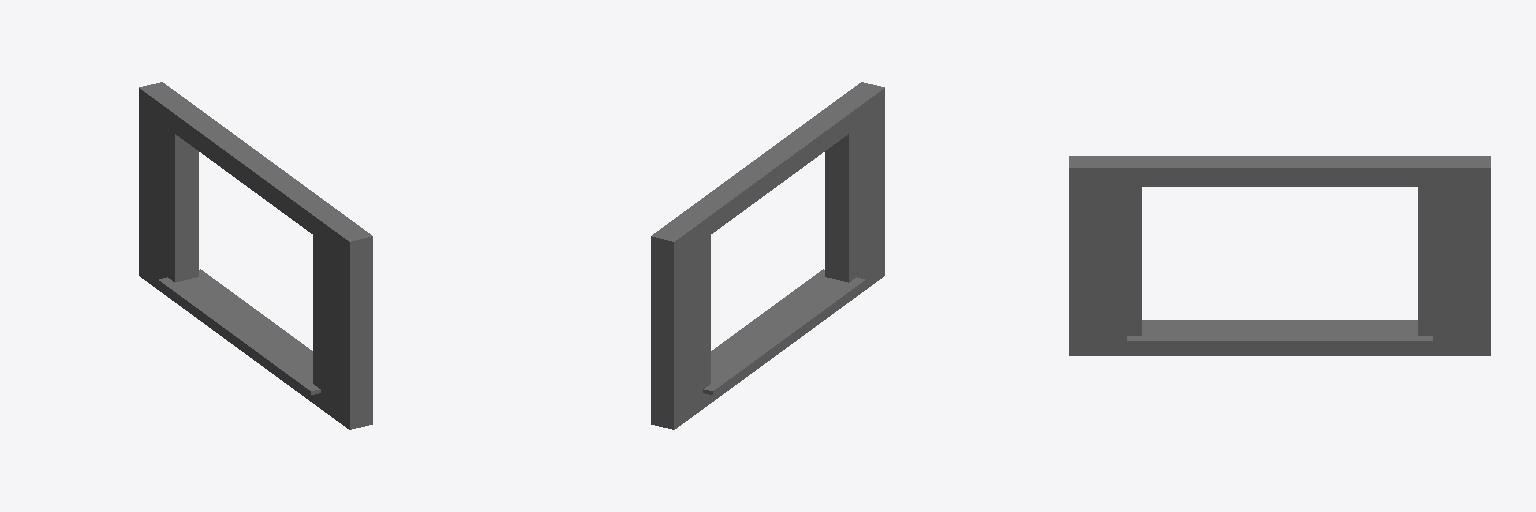
Rendered from Window.obj.
The picture shows the model from 3 angles: view 1: azimuth 30°, elevation 25°; view 2: azimuth 150°, elevation 25°; view 3: azimuth 270°, elevation 25°; orthographic projection.
Parts seen in each view (by area): view 1: WindowFrame-004-Thick-With-Ledge; view 2: WindowFrame-004-Thick-With-Ledge; view 3: WindowFrame-004-Thick-With-Ledge.
Boxes of the visible parts, x1,y1,x2,y2 form: WindowFrame-004-Thick-With-Ledge: [139, 82, 372, 429]; WindowFrame-004-Thick-With-Ledge: [651, 82, 884, 429]; WindowFrame-004-Thick-With-Ledge: [1069, 156, 1490, 355].
Bounding box in the file's own units: 0.45 × 1.89 × 3.85.